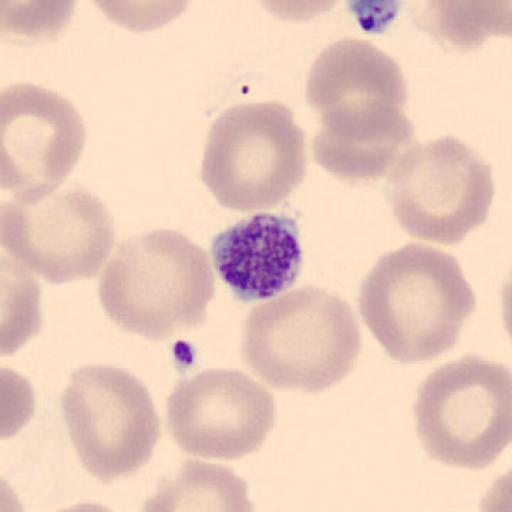Platelet: (208, 209, 306, 304), (344, 0, 407, 37)
RBC: (356, 240, 477, 367), (97, 226, 217, 342), (239, 283, 363, 394), (199, 98, 309, 215), (386, 133, 496, 246), (60, 361, 162, 482), (2, 182, 117, 286), (412, 351, 511, 471), (304, 36, 412, 146), (164, 366, 278, 462), (2, 80, 89, 200), (307, 83, 413, 181), (139, 458, 255, 512), (404, 0, 512, 51), (2, 256, 42, 358), (86, 0, 198, 34), (2, 0, 80, 39), (2, 362, 36, 442), (248, 0, 352, 24), (476, 468, 512, 512), (39, 500, 132, 512), (0, 472, 27, 512)
